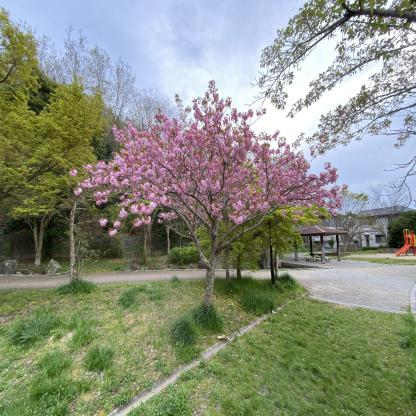YaeSakura: (69, 81, 349, 240)
